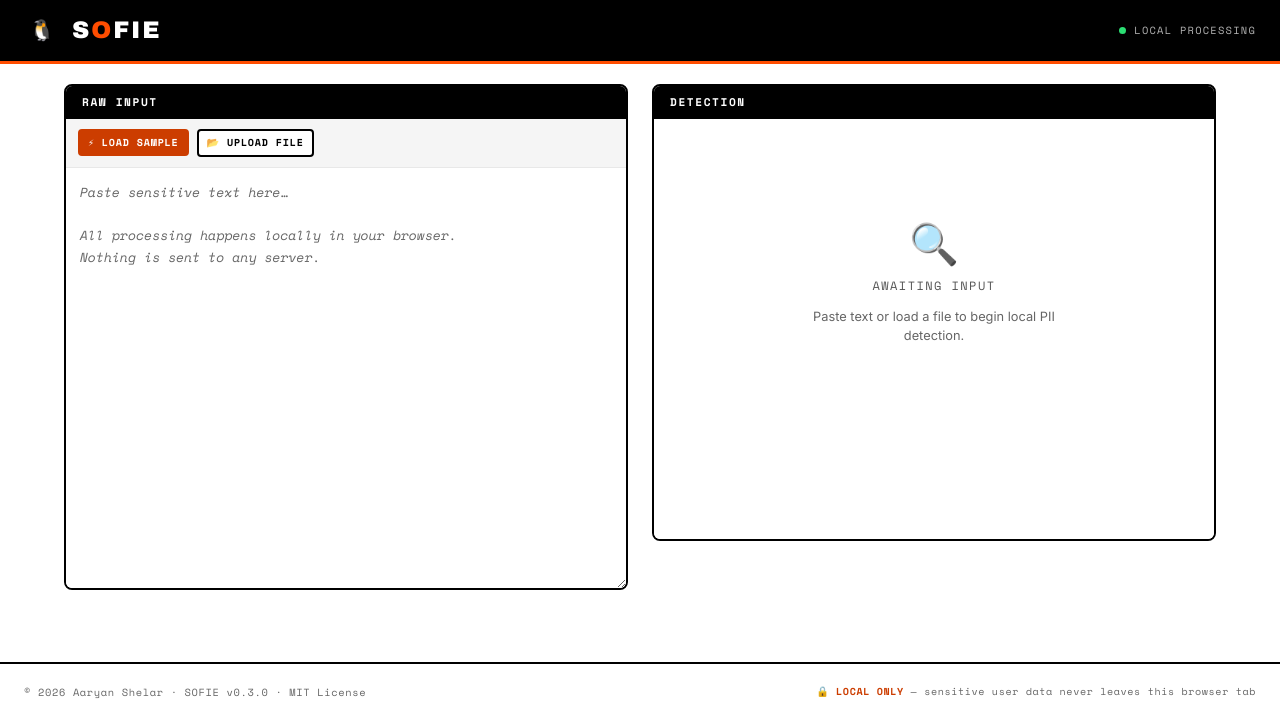
Test case: SOFIE Phase 2 UI › 14. Typing into the textarea updates the character count
(page scrolled)
Replace the text in the text box with test id "text-input" with "Hello World" at {"x": 346, "y": 378}, box x1=66 y1=168 x2=626 y2=588
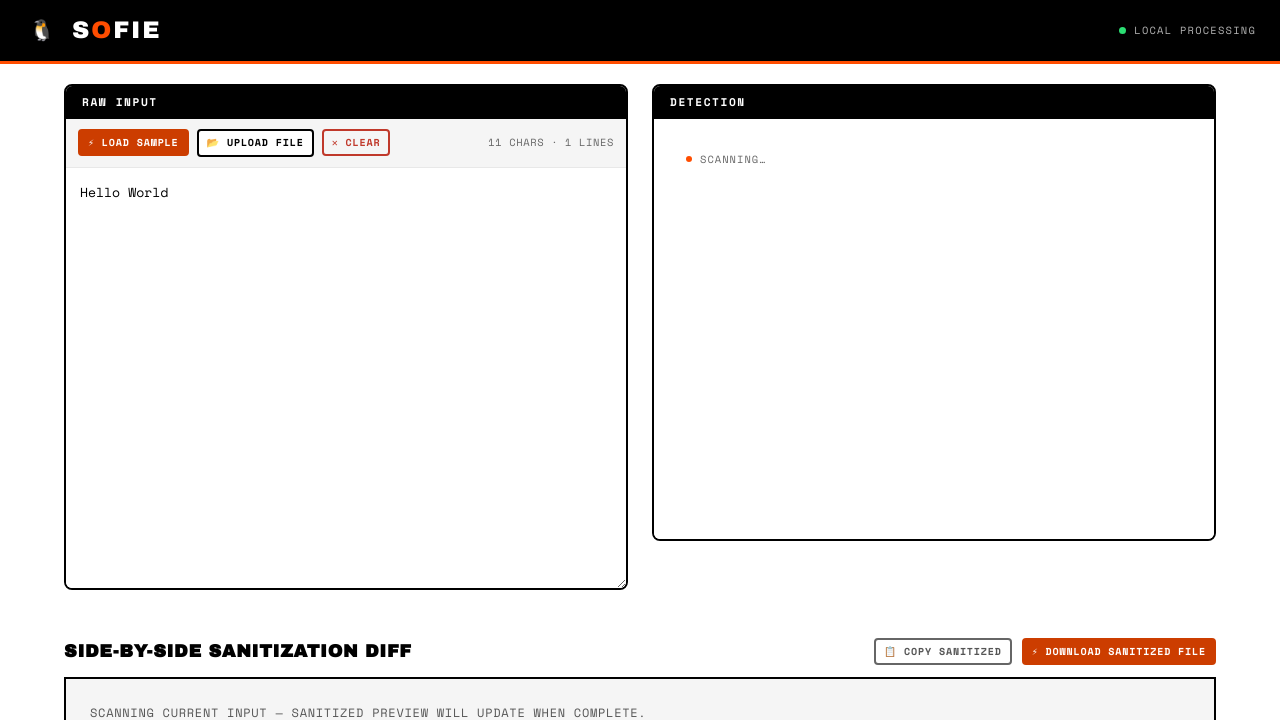
Now the text "11 CHARS · 1 LINES" is shown, box x1=488 y1=134 x2=614 y2=151
